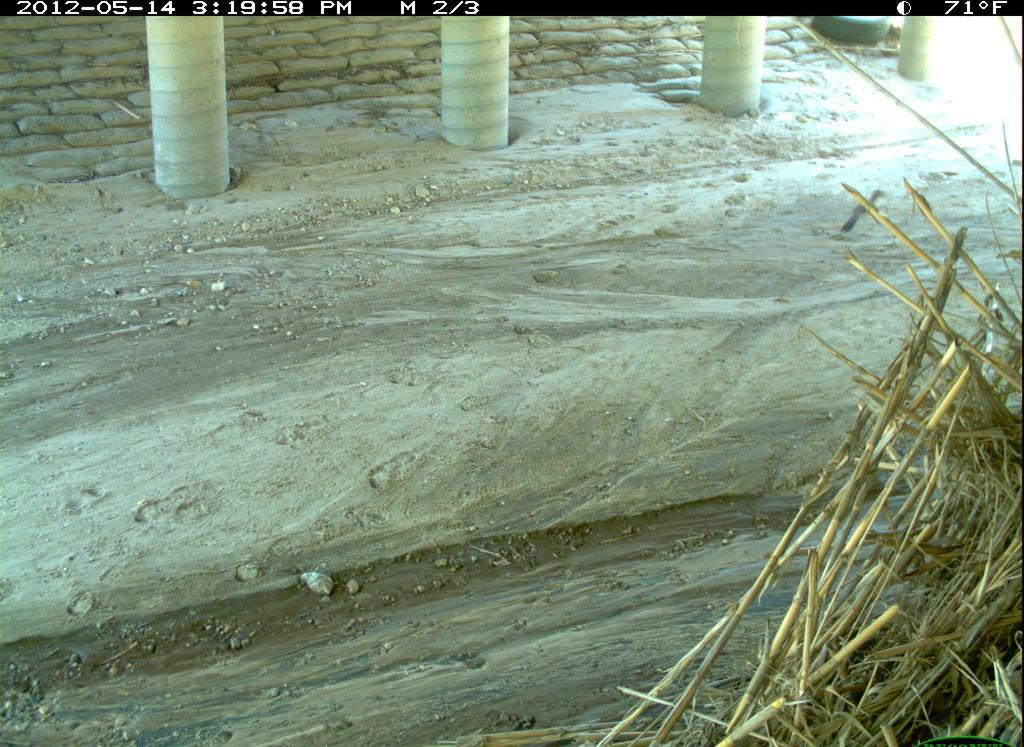bird: (839, 185, 893, 241)
